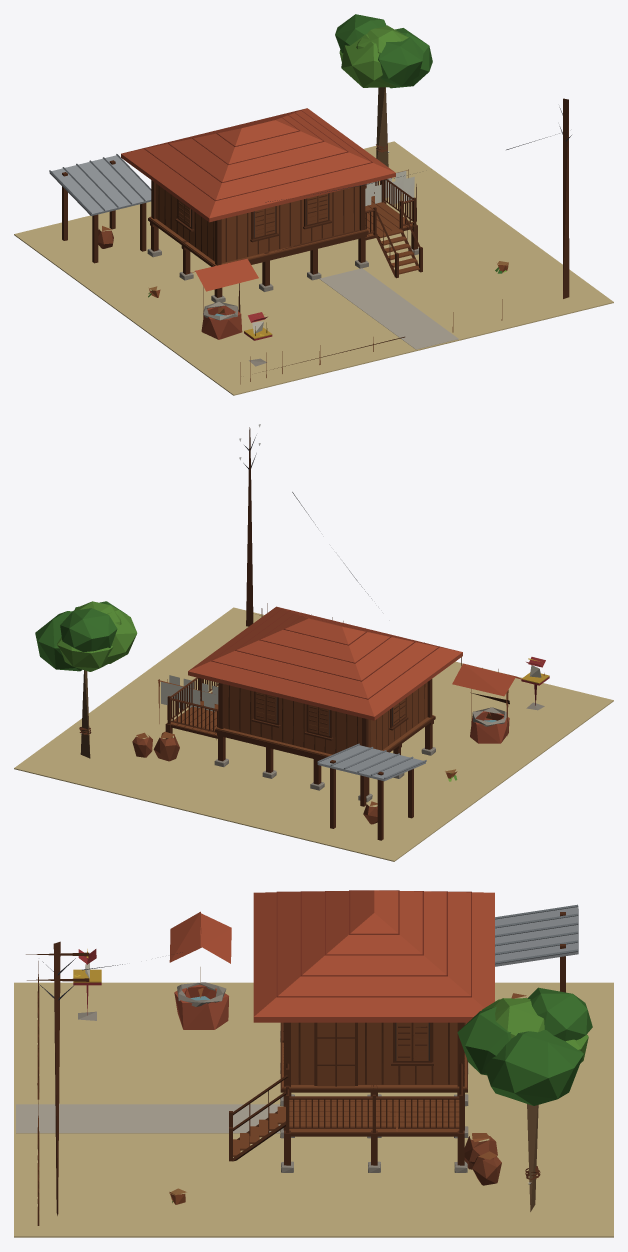
Rendered from home_1.glb.
3 renders of one model, top to bottom at view 1: azimuth 30°, elevation 25°; view 2: azimuth 150°, elevation 25°; view 3: azimuth 270°, elevation 25°, orthographic. The views are drawn at different scales.
Visible parts, largest first — view 1: body; view 2: body; view 3: body.
Part boxes in pixels (bbox=[...]): body: bbox=[14, 14, 613, 395]; body: bbox=[14, 424, 613, 861]; body: bbox=[14, 890, 613, 1237].
Bounding box in the file's own units: 16.02 × 8.3 × 15.9.
